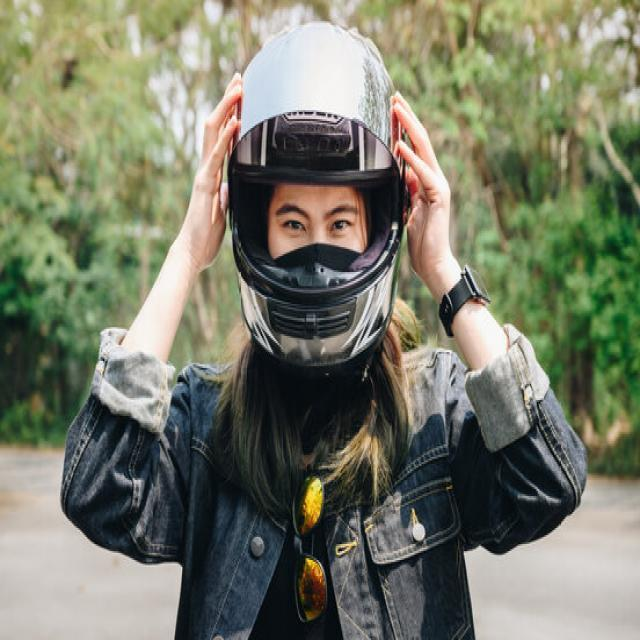Helm: (218, 19, 414, 376)
